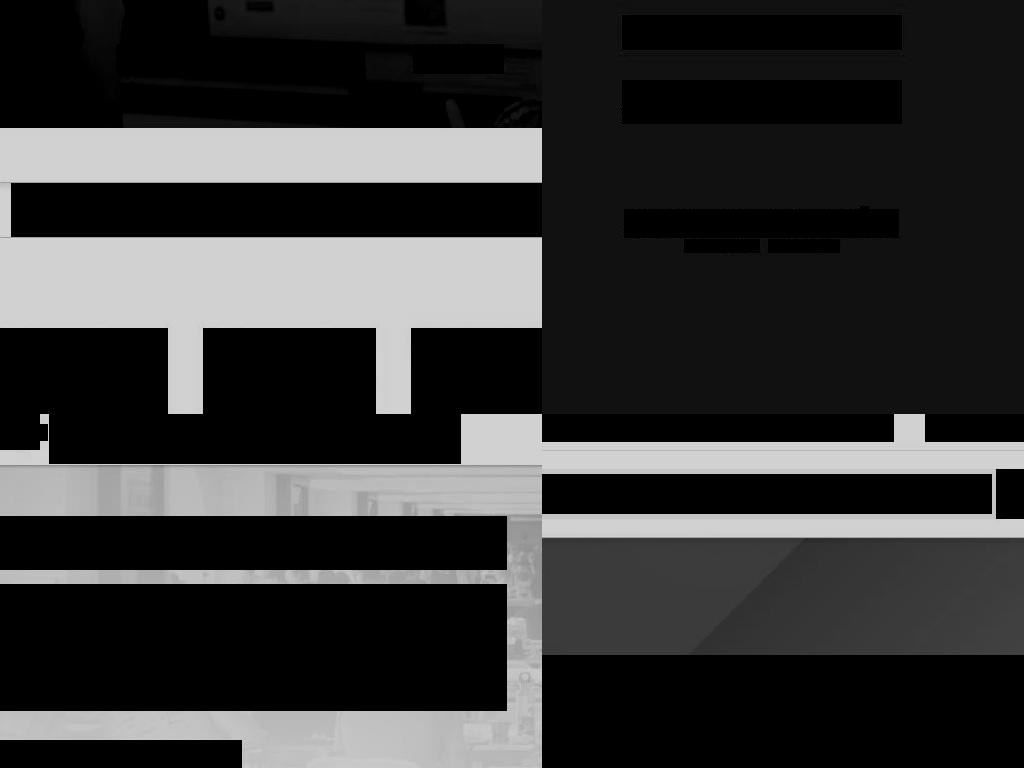button: (203, 328, 376, 414), (0, 328, 168, 414), (411, 328, 542, 414), (622, 15, 902, 50), (289, 414, 461, 464), (0, 740, 242, 768), (49, 414, 182, 464), (182, 414, 289, 464), (925, 414, 1015, 442), (996, 469, 1024, 519), (0, 424, 48, 441)
field: (11, 183, 542, 237), (542, 474, 992, 514)
heading: (0, 584, 507, 711), (542, 655, 1024, 768), (0, 516, 507, 570)
image: (203, 328, 376, 414), (0, 328, 168, 414), (411, 328, 542, 414), (116, 44, 349, 74), (413, 44, 504, 74), (0, 44, 52, 74), (0, 414, 40, 450)
link: (684, 239, 760, 253), (768, 239, 840, 253)
text: (622, 80, 902, 124), (542, 414, 894, 442), (624, 209, 899, 238), (634, 209, 861, 223), (935, 414, 1005, 434), (860, 206, 869, 217)
